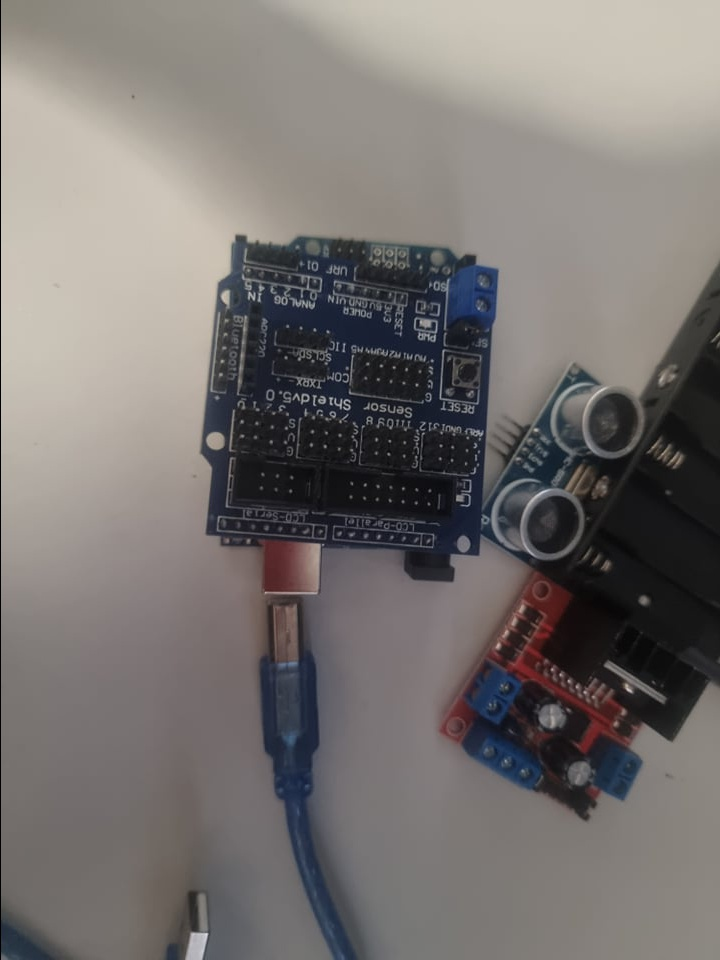5V EXPANSION: (202, 243, 507, 535)
BATTERY BOX: (570, 275, 717, 680)
MOTOR: (438, 574, 707, 844)
SENSOR: (478, 370, 647, 559)
